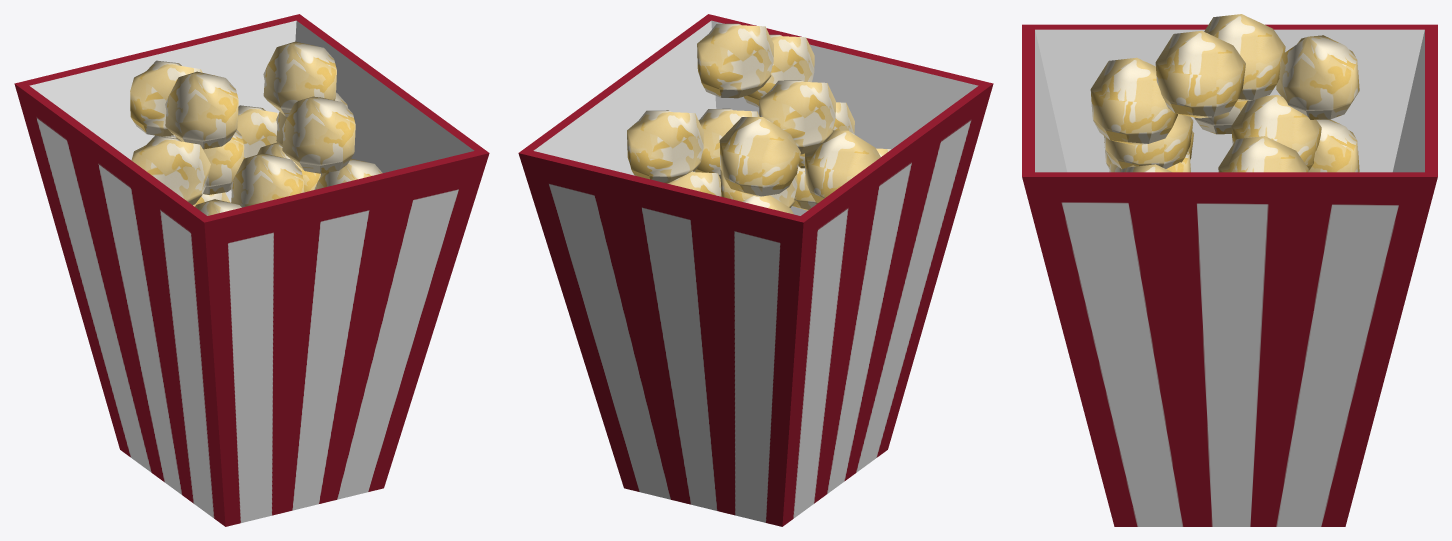
Rendered from POPCORN.fbx.
3 views of the same model, side by side, from view 1: azimuth 30°, elevation 25°; view 2: azimuth 150°, elevation 25°; view 3: azimuth 270°, elevation 25° (orthographic). The views are drawn at different scales.
Parts seen in each view (by area): view 1: pCube1, SKausar_Bush24, SKausar_Bush21, SKausar_Bush26, SKausar_Bush25, SKausar_Bush16, SKausar_Bush22, SKausar_Bush19, SKausar_Bush20, SKausar_Bush17, SKausar_Bush18; view 2: pCube1, SKausar_Bush22, SKausar_Bush26, SKausar_Bush23, SKausar_Bush21, SKausar_Bush25, SKausar_Bush24, SKausar_Bush17, SKausar_Bush18, SKausar_Bush19, SKausar_Bush16, SKausar_Bush14; view 3: pCube1, SKausar_Bush26, SKausar_Bush24, SKausar_Bush22, SKausar_Bush21, SKausar_Bush19, SKausar_Bush16, SKausar_Bush23, SKausar_Bush13, SKausar_Bush25.
Part boxes in pixels (<box>): pCube1: <box>14,14,489,526</box>; SKausar_Bush24: <box>282,96,355,173</box>; SKausar_Bush21: <box>165,71,238,149</box>; SKausar_Bush26: <box>263,41,336,116</box>; SKausar_Bush25: <box>131,136,210,205</box>; SKausar_Bush16: <box>230,153,304,207</box>; SKausar_Bush22: <box>130,60,202,136</box>; SKausar_Bush19: <box>176,130,244,194</box>; SKausar_Bush20: <box>237,105,278,158</box>; SKausar_Bush17: <box>314,158,382,189</box>; SKausar_Bush18: <box>257,142,320,192</box>; pCube1: <box>518,14,993,526</box>; SKausar_Bush22: <box>719,117,800,196</box>; SKausar_Bush26: <box>697,23,773,98</box>; SKausar_Bush23: <box>627,110,703,183</box>; SKausar_Bush21: <box>759,80,835,154</box>; SKausar_Bush25: <box>805,130,880,202</box>; SKausar_Bush24: <box>744,34,814,107</box>; SKausar_Bush17: <box>695,108,759,178</box>; SKausar_Bush18: <box>667,171,721,196</box>; SKausar_Bush19: <box>720,170,797,207</box>; SKausar_Bush16: <box>798,102,854,168</box>; SKausar_Bush14: <box>792,166,817,210</box>; pCube1: <box>1022,24,1437,526</box>; SKausar_Bush26: <box>1155,30,1245,118</box>; SKausar_Bush24: <box>1090,57,1177,145</box>; SKausar_Bush22: <box>1276,35,1359,119</box>; SKausar_Bush21: <box>1204,14,1285,101</box>; SKausar_Bush19: <box>1231,94,1321,171</box>; SKausar_Bush16: <box>1104,114,1193,169</box>; SKausar_Bush23: <box>1218,136,1308,172</box>; SKausar_Bush13: <box>1308,119,1359,172</box>; SKausar_Bush25: <box>1194,101,1246,134</box>.
Size of the model in its own units: 1.8 by 2.58 by 2.08.
2 materials, 2 textured.
